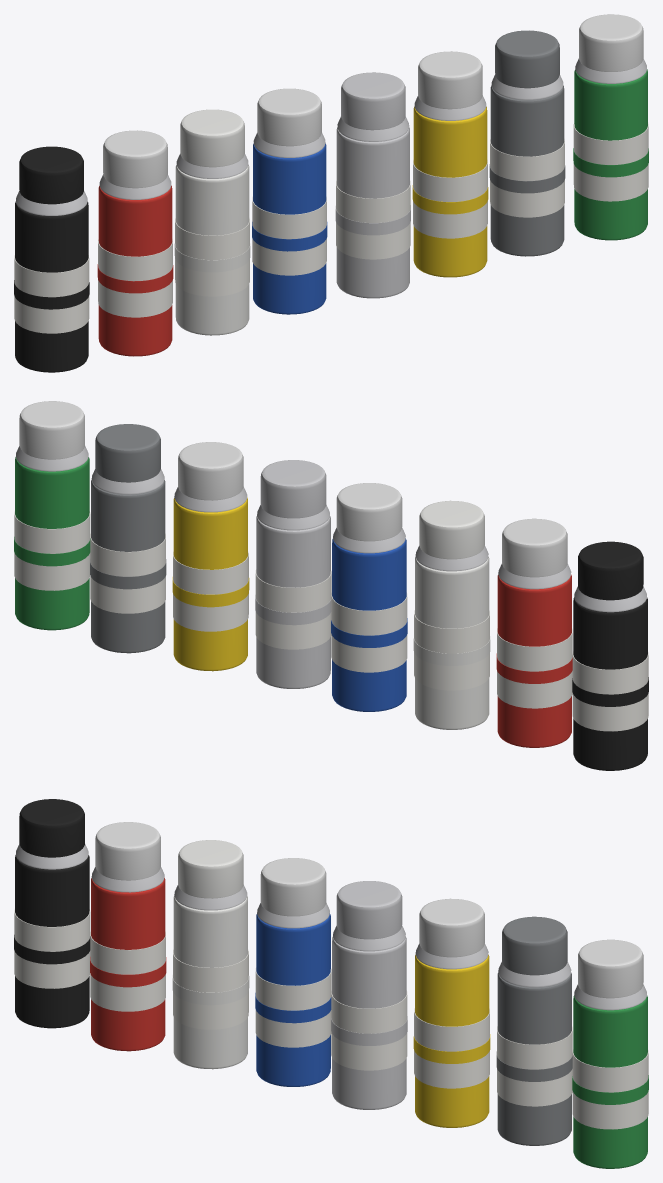
File: spray_can_row.glb
3 views of the same model, one above another, from view 1: azimuth 30°, elevation 25°; view 2: azimuth 150°, elevation 25°; view 3: azimuth 330°, elevation 25° (orthographic).
Visible parts, largest first — view 1: SM_spray_can_row; view 2: SM_spray_can_row; view 3: SM_spray_can_row.
Boxes of the visible parts, bbox=[...] form: SM_spray_can_row: bbox=[14, 14, 648, 372]; SM_spray_can_row: bbox=[14, 401, 648, 770]; SM_spray_can_row: bbox=[14, 799, 648, 1168].
Size of the model in its own units: 0.6418 by 0.1975 by 0.0758.
